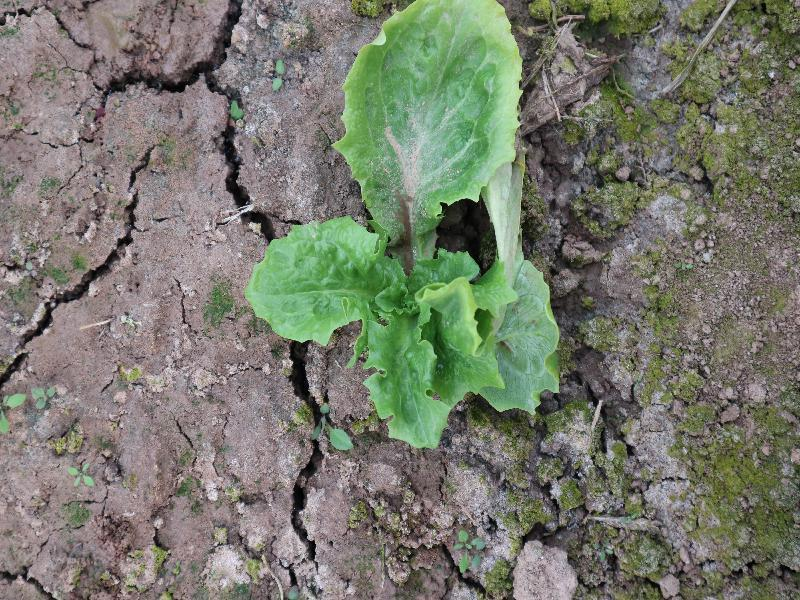lettuce: (244, 0, 562, 450)
